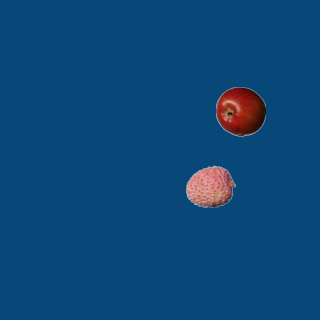Apple Braeburn: (215, 86, 265, 136)
Lychee: (185, 161, 235, 211)
